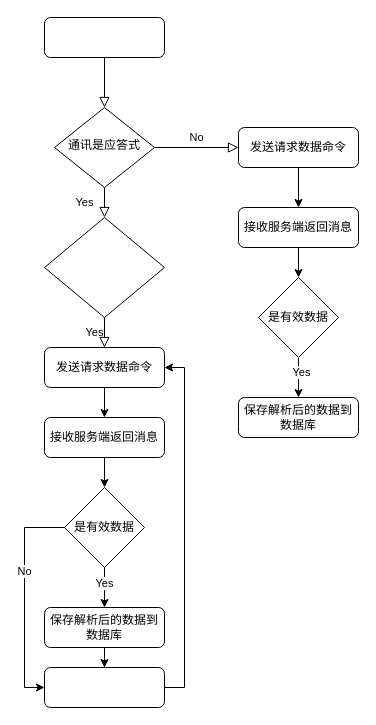
Image size: 376x725. Some labels were removed from this diagram. Here are the shapes that lost their labels. From the top down, the centre of each, then its label:
(x=104, y=37): 请求连接
(x=104, y=267): 通讯是注册分发 模式
(x=104, y=687): 等待一段时间
